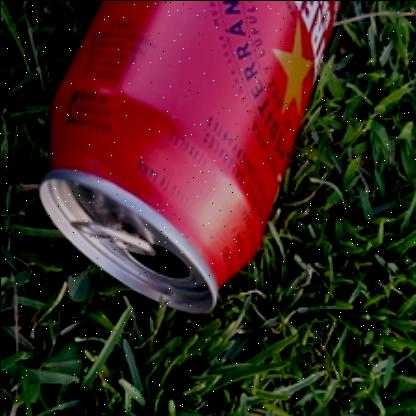Can: (39, 0, 341, 315)
